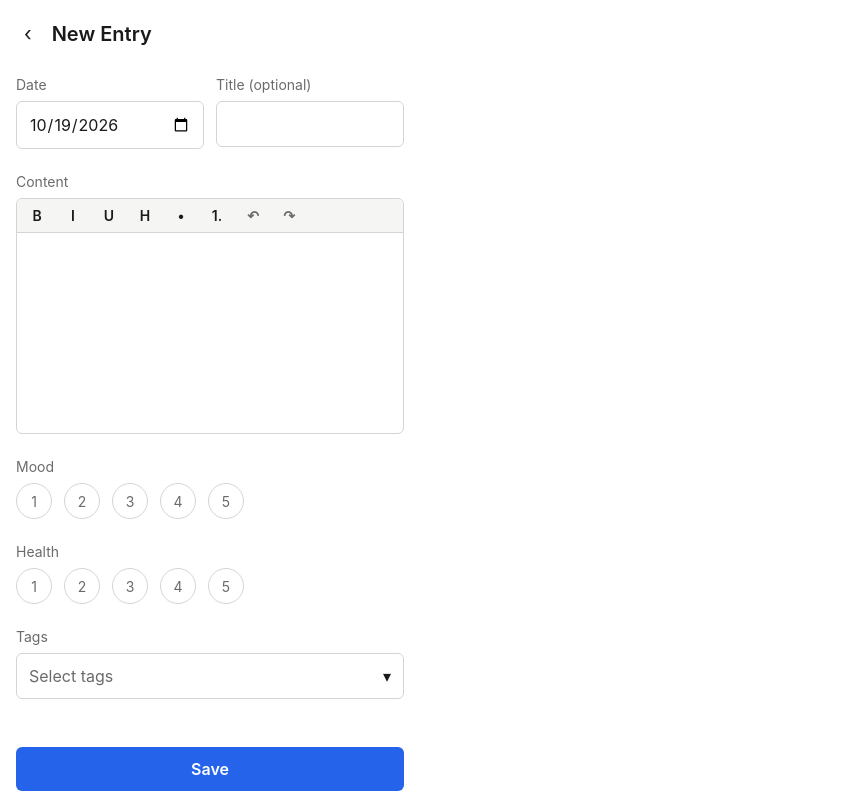
Test: App › replaces a deep-linked editor with its journal on Back, since there is no parent to pop to
What coordinates should you click on to do the following:
click the button named "Back"
I would click on:
 (28, 34)
Its box is [16,16,40,52].
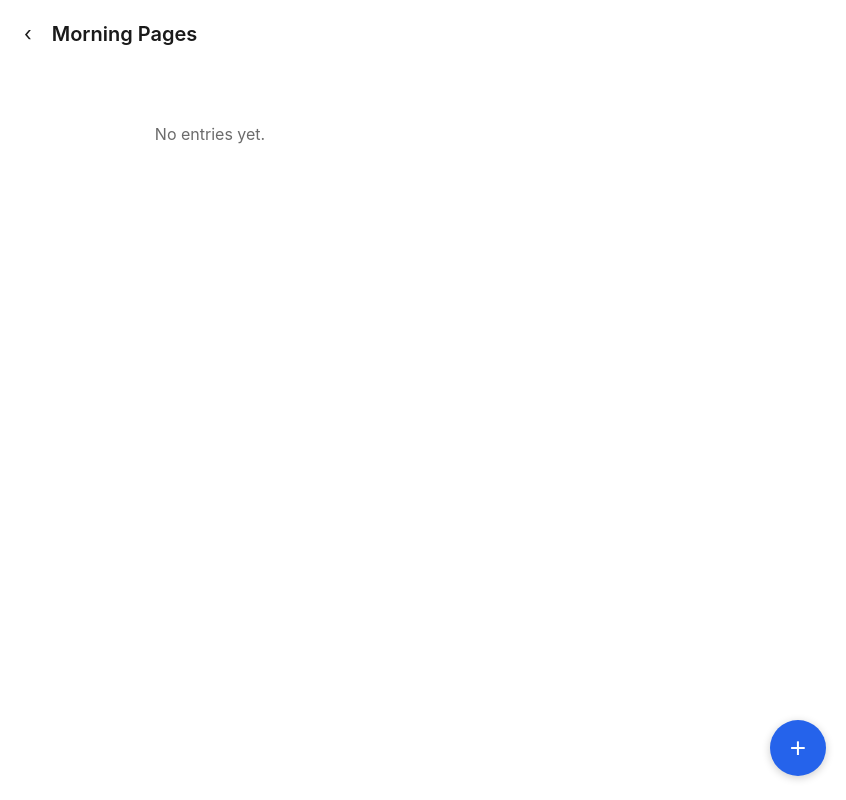
expect the heading "Morning Pages" is shown: met, box [52,22,197,46]
